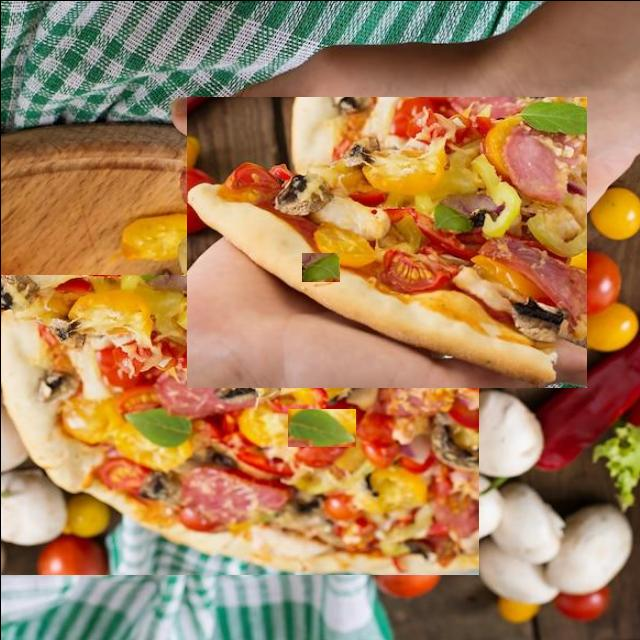basil: (163, 349, 256, 383), (287, 408, 355, 446), (301, 252, 339, 281)
pizza: (0, 274, 478, 574), (186, 96, 586, 387)
